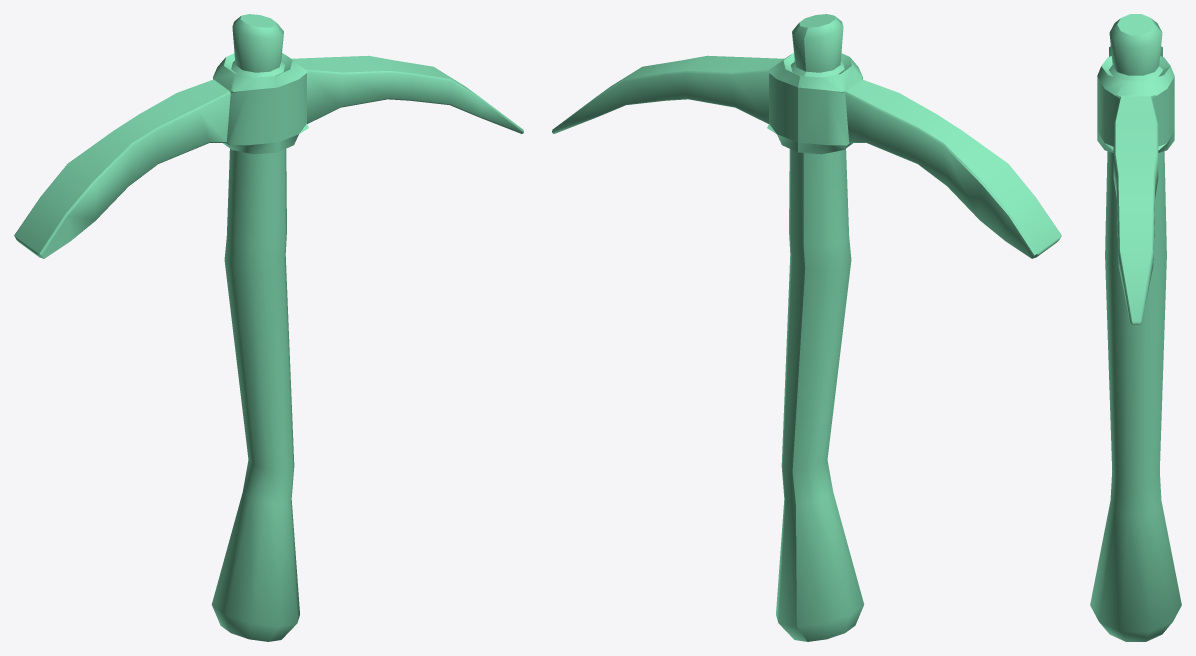
The picture shows the model from 3 angles, left to right: view 1: azimuth 30°, elevation 25°; view 2: azimuth 150°, elevation 25°; view 3: azimuth 270°, elevation 25°; orthographic projection.
Parts seen in each view (by area): view 1: split_parent_0; view 2: split_parent_0; view 3: split_parent_0.
Boxes of the visible parts, x1,y1,x2,y2 form: split_parent_0: (14,14,523,641); split_parent_0: (552,14,1061,641); split_parent_0: (1090,14,1181,641).
Size of the model in its own units: 0.8395 by 1 by 0.1362.
